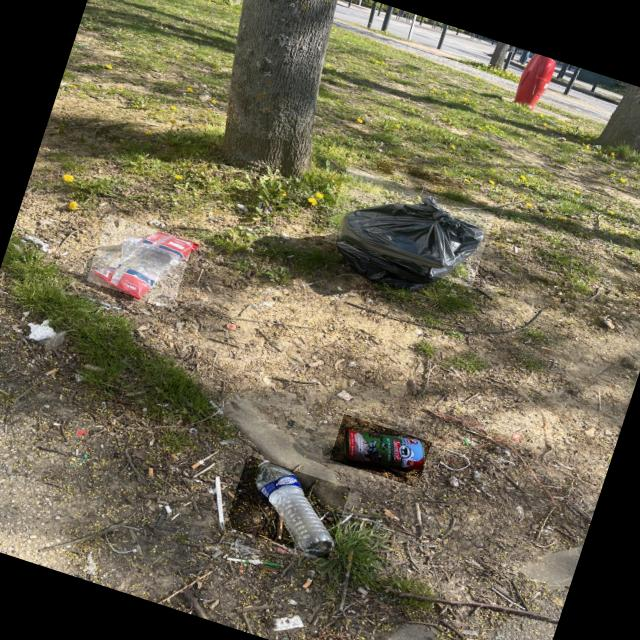Clear plastic bottle: (224, 456, 350, 560)
Drink can: (329, 414, 432, 488)
Garbage bag: (324, 166, 495, 288)
Other plastic: (86, 214, 194, 310)
